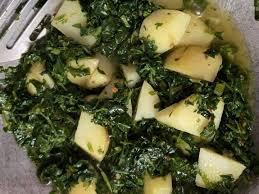Aloo Methi: (8, 3, 243, 194)
